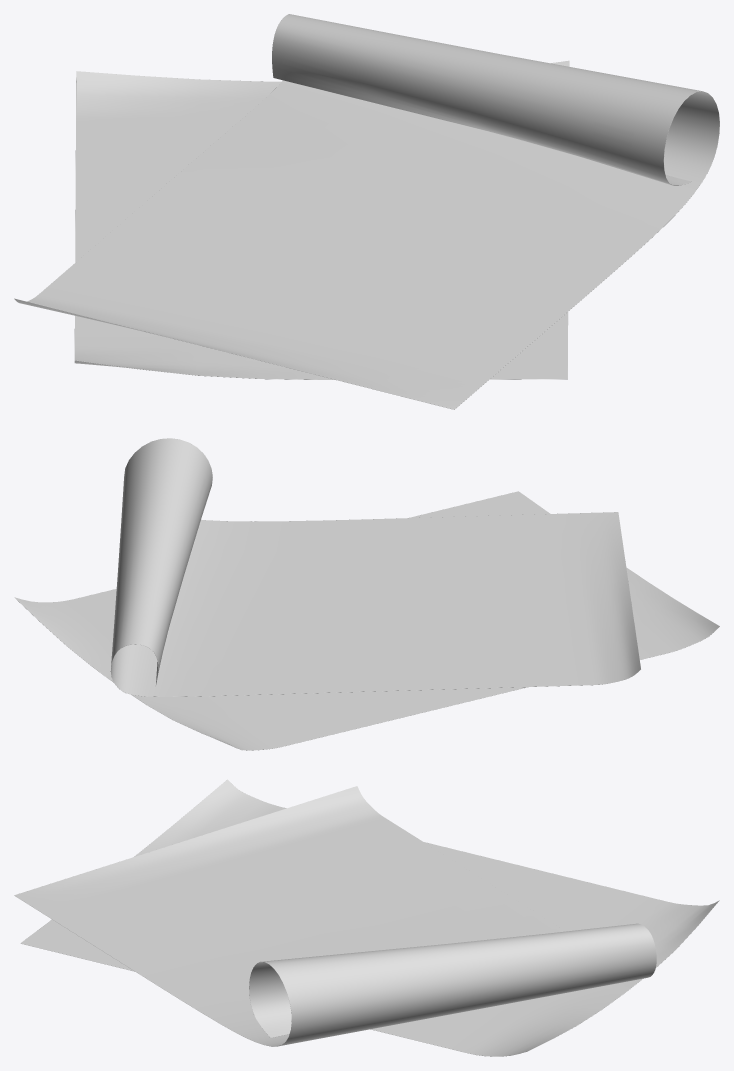
File: paper_sheets_01.obj
The picture shows the model from 3 angles, top to bottom: view 1: azimuth 30°, elevation 25°; view 2: azimuth 150°, elevation 25°; view 3: azimuth 270°, elevation 25°; orthographic projection. The views are drawn at different scales.
Visible parts, largest first — view 1: sheet_2, sheet_1; view 2: sheet_2, sheet_1; view 3: sheet_2, sheet_1.
Part boxes in pixels (box(x1,y1,x2,y2)): sheet_2: box(14, 14, 719, 409); sheet_1: box(74, 60, 569, 379); sheet_2: box(110, 438, 640, 696); sheet_1: box(14, 491, 719, 750); sheet_2: box(14, 786, 656, 1046); sheet_1: box(20, 779, 719, 1056).
Size of the model in its own units: 95.13 by 14.3 by 102.
Materials: 1 (1 with a texture image).
